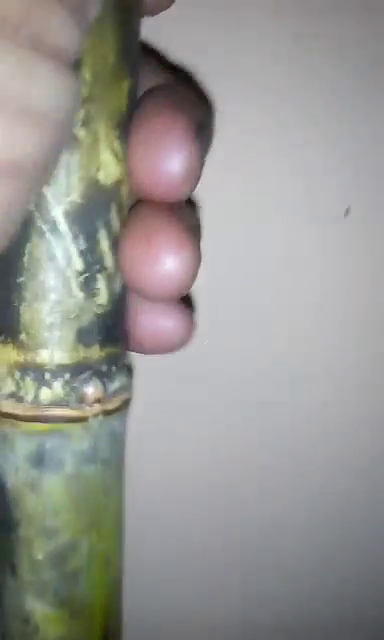cane eye: (79, 375, 109, 408)
